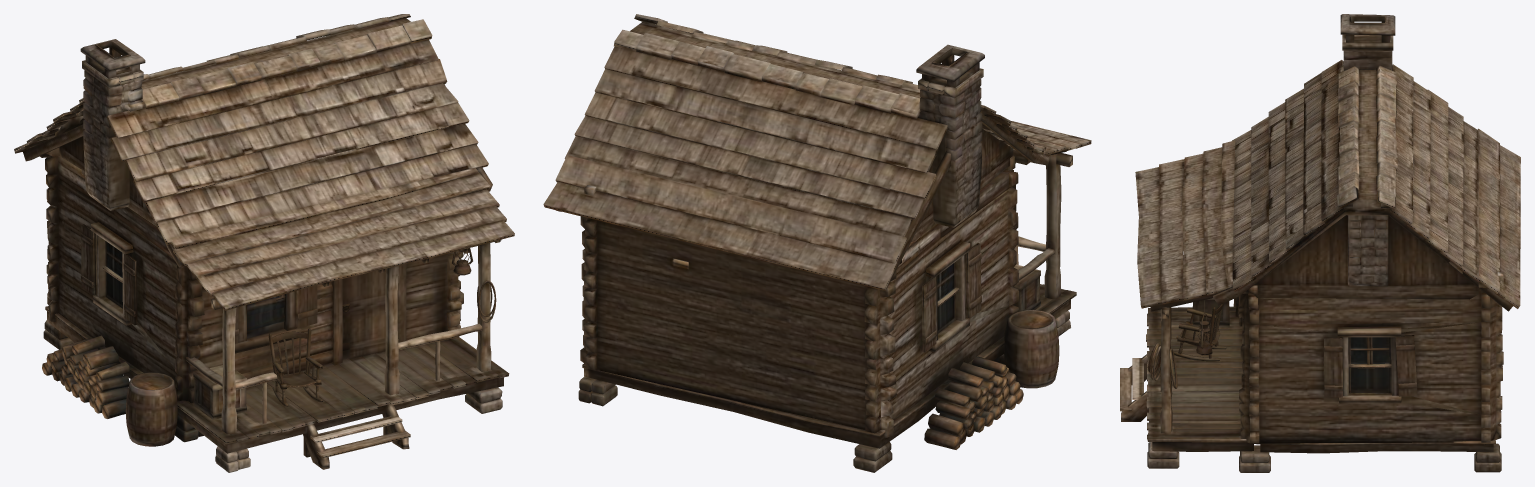
File: cabin.glb
3 views of the same model, side by side, from view 1: azimuth 30°, elevation 25°; view 2: azimuth 150°, elevation 25°; view 3: azimuth 270°, elevation 25° (orthographic). The views are drawn at different scales.
Parts seen in each view (by area): view 1: tripo_node_cc3784d5-3907-4669-856a-141a6b2c1937; view 2: tripo_node_cc3784d5-3907-4669-856a-141a6b2c1937; view 3: tripo_node_cc3784d5-3907-4669-856a-141a6b2c1937.
Part boxes in pixels (box(x1,y1,x2,y2)): tripo_node_cc3784d5-3907-4669-856a-141a6b2c1937: box(14, 14, 514, 472); tripo_node_cc3784d5-3907-4669-856a-141a6b2c1937: box(543, 14, 1091, 472); tripo_node_cc3784d5-3907-4669-856a-141a6b2c1937: box(1120, 14, 1520, 472).
Bounding box in the file's own units: 0.9438 × 0.897 × 0.9995.
Materials: 1 (1 with a texture image).
